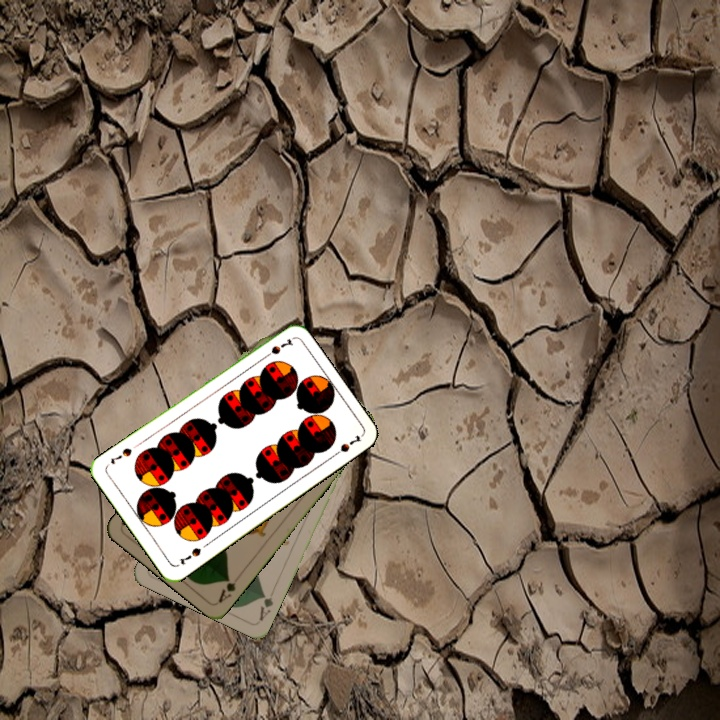GA: (214, 572, 238, 606), (255, 590, 276, 624)
S7: (258, 335, 295, 362), (174, 543, 204, 567)
